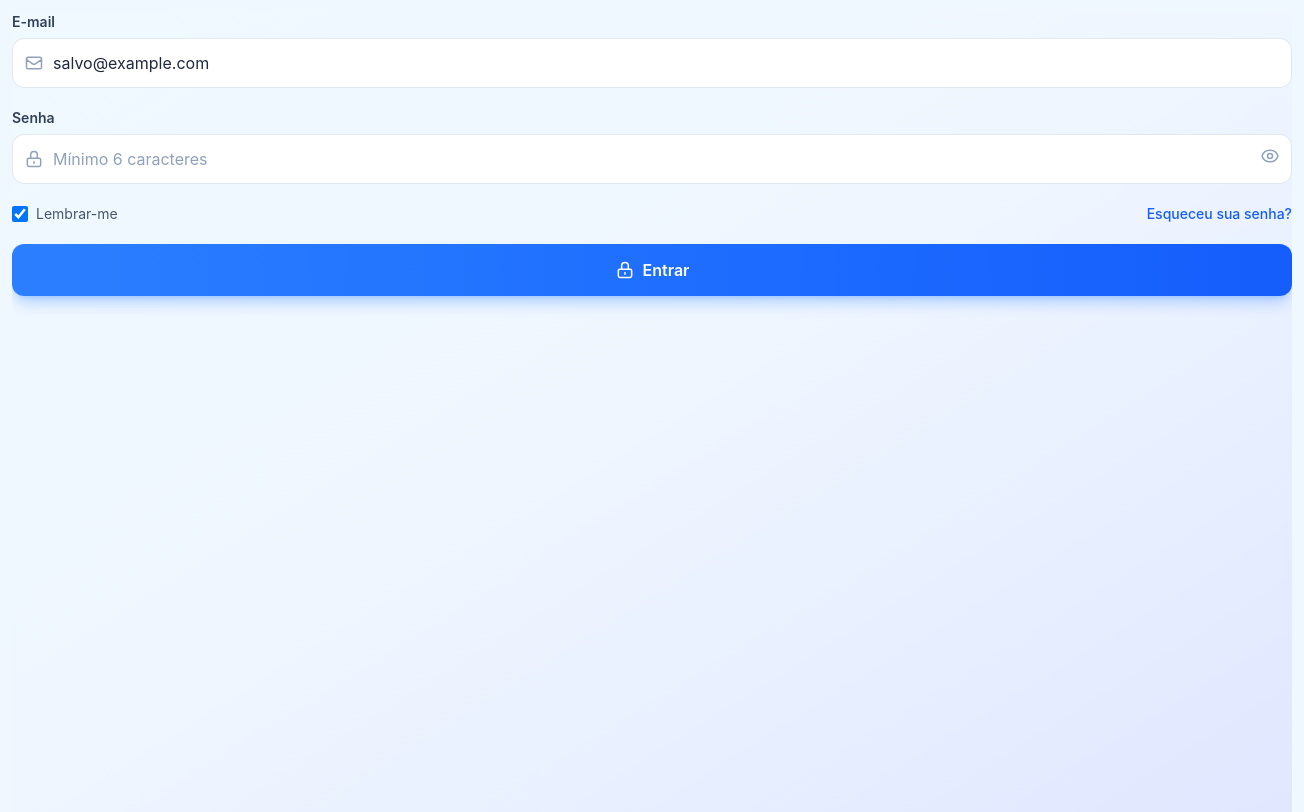
Scenario: LoginForm › exibe mensagem amigável para e-mail não confirmado
In the password field labelled "Senha": x=652, y=159 [12, 134, 1292, 184], type "123456"
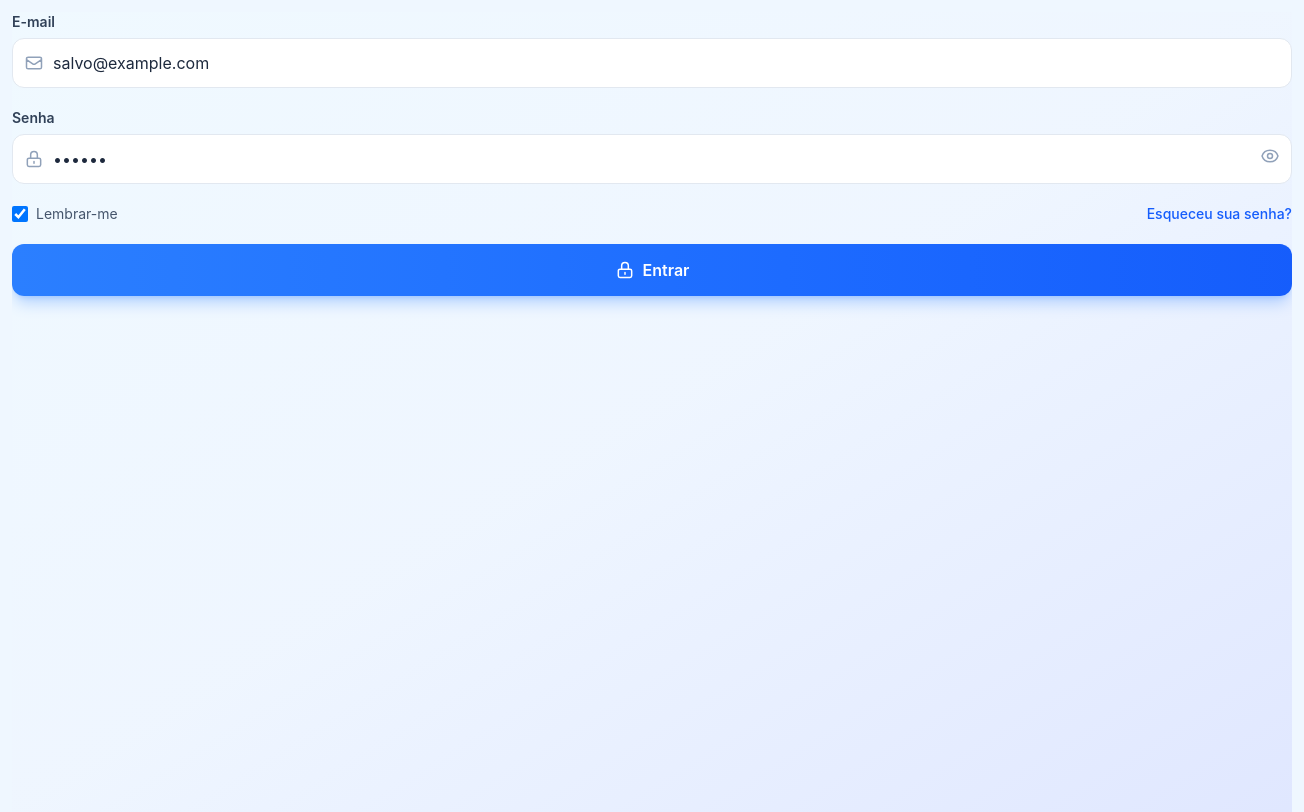
Click the button "Entrar": x=652, y=270 [12, 244, 1292, 296]
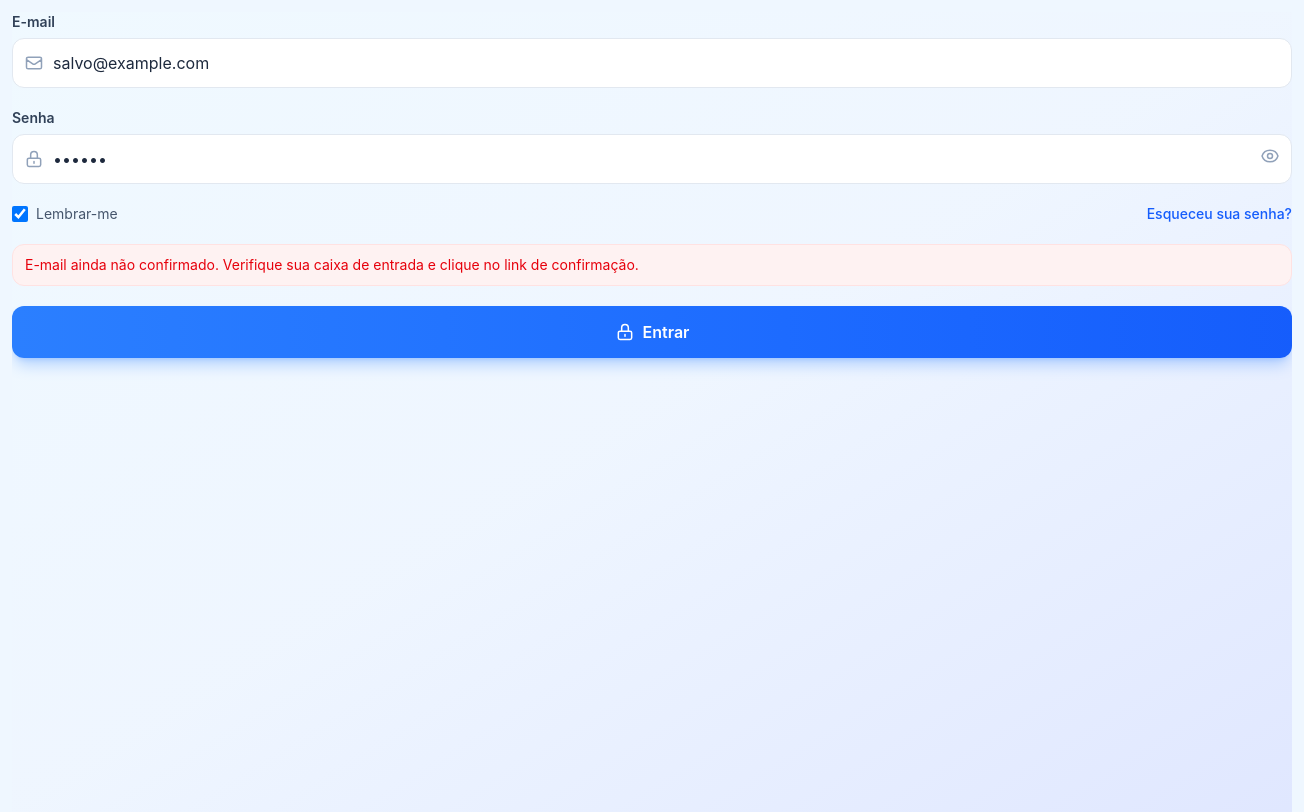
Expected: the text "E-mail ainda não confirmado" is shown, [25, 256, 639, 273]
